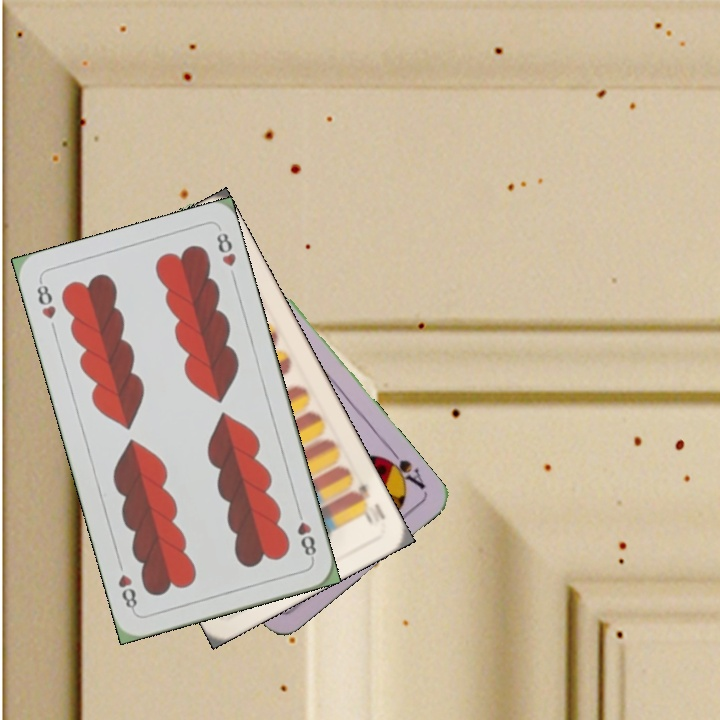E10: (348, 480, 388, 529)
H8: (293, 505, 319, 563), (33, 276, 59, 322)
SA: (377, 443, 428, 492)
